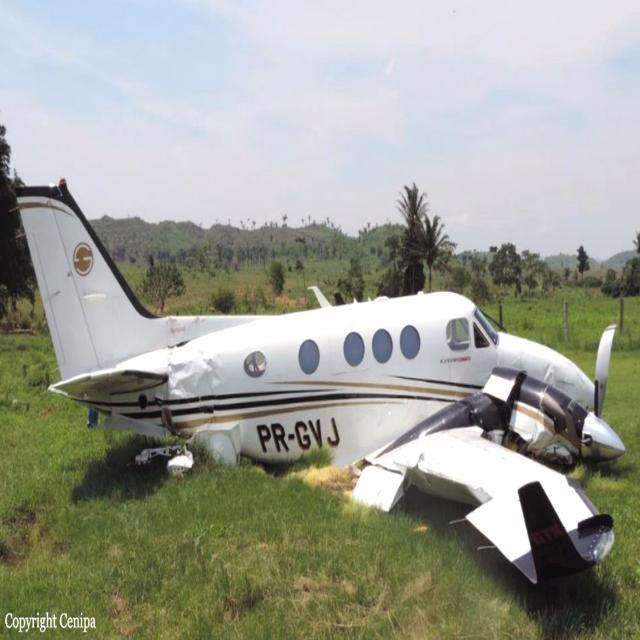dent: (169, 349, 232, 427)
